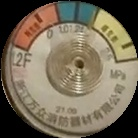green: (57, 2, 97, 27)
red: (11, 4, 59, 54)
yellow: (95, 8, 138, 62)
